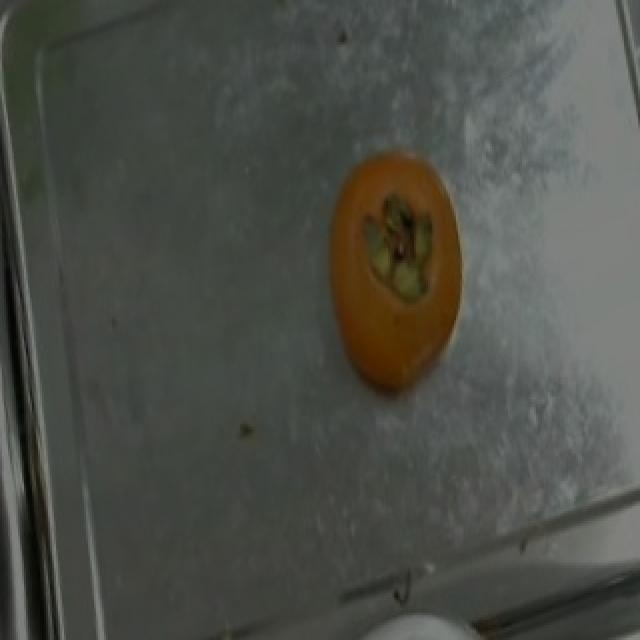Fruit: (306, 131, 484, 412)
